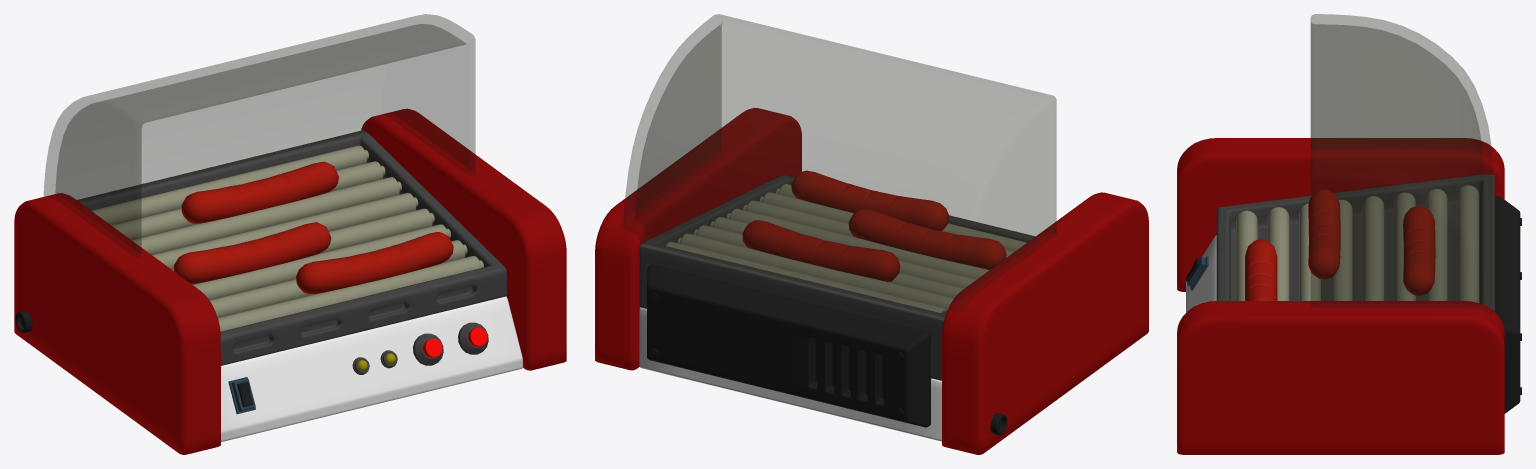
The model's file is Hot Dog Roaster.fbx.
The picture shows the model from 3 angles, left to right: view 1: azimuth 30°, elevation 25°; view 2: azimuth 150°, elevation 25°; view 3: azimuth 270°, elevation 25°; orthographic projection. The views are drawn at different scales.
Parts seen in each view (by area): view 1: shield, side_2, base, side_1, panel, roller_5, Hotdog_1, Hotdog_3, Hotdog_2, roller_7, roller_0, roller_4 (+4 smaller); view 2: shield, side_2, vent, side_1, panel, Hotdog_3, Hotdog_2, base, Hotdog_1, roller_6, roller_3, roller_7 (+5 smaller); view 3: side_1, shield, side_2, panel, vent, Hotdog_2, Hotdog_3, roller_7, roller_4, Hotdog_1, roller_6, roller_1 (+5 smaller).
Part boxes in pixels (<box>): shield: <box>44,14,475,256</box>; side_2: <box>14,193,220,454</box>; base: <box>221,296,522,441</box>; side_1: <box>361,108,566,370</box>; panel: <box>77,130,506,365</box>; roller_5: <box>132,177,399,254</box>; Hotdog_1: <box>296,232,453,294</box>; Hotdog_3: <box>181,161,338,223</box>; Hotdog_2: <box>174,222,331,284</box>; roller_7: <box>92,145,366,225</box>; roller_0: <box>218,256,481,331</box>; roller_4: <box>152,193,415,269</box>; shield: <box>623,14,1056,317</box>; side_2: <box>942,192,1148,454</box>; vent: <box>647,264,931,427</box>; side_1: <box>595,108,801,370</box>; panel: <box>639,175,1035,380</box>; Hotdog_3: <box>742,220,900,281</box>; Hotdog_2: <box>848,209,1006,269</box>; base: <box>639,307,941,441</box>; Hotdog_1: <box>791,170,948,230</box>; roller_6: <box>680,233,953,310</box>; roller_3: <box>729,208,988,279</box>; roller_7: <box>666,241,946,312</box>; side_1: <box>1177,301,1504,454</box>; shield: <box>1310,14,1492,314</box>; side_2: <box>1177,138,1504,291</box>; panel: <box>1216,174,1494,311</box>; vent: <box>1494,196,1520,413</box>; Hotdog_2: <box>1308,189,1340,279</box>; Hotdog_3: <box>1403,206,1435,295</box>; roller_7: <box>1457,185,1479,302</box>; roller_4: <box>1362,196,1384,300</box>; Hotdog_1: <box>1245,239,1277,300</box>; roller_6: <box>1426,189,1447,300</box>; roller_1: <box>1267,207,1289,300</box>.
Bounding box in the file's own units: 4.51 × 3.08 × 3.54.
